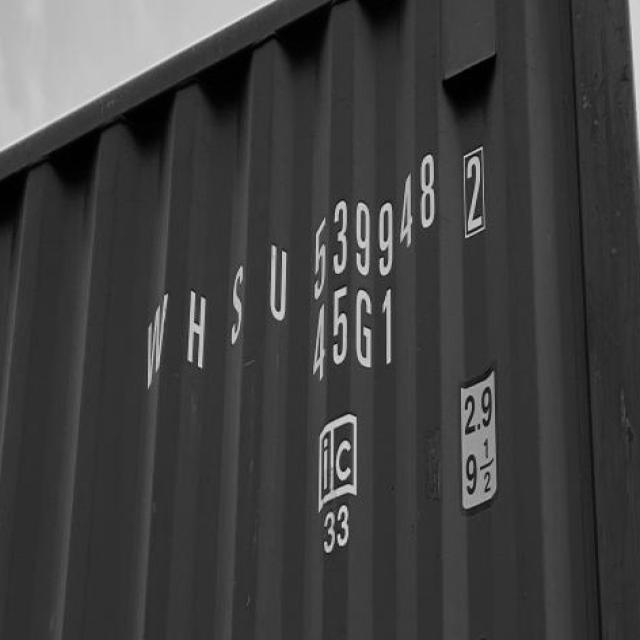dv: (453, 139, 505, 237)
owner: (112, 242, 293, 388)
serial: (302, 150, 440, 300)
size: (308, 284, 404, 396)
